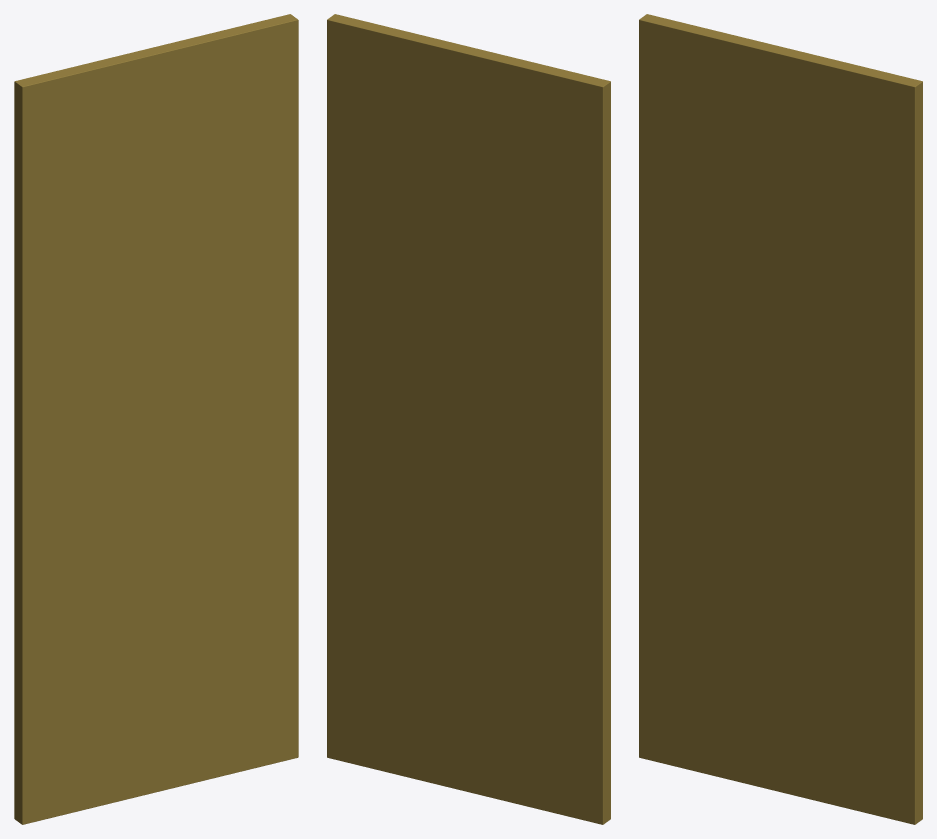
The model's file is original-1.obj.
3 renders of one model, left to right at view 1: azimuth 30°, elevation 25°; view 2: azimuth 150°, elevation 25°; view 3: azimuth 330°, elevation 25°, orthographic.
Parts seen in each view (by area): view 1: Group1/mesh1/mesh1-geometry#mesh1-geometry; view 2: Group1/mesh1/mesh1-geometry#mesh1-geometry; view 3: Group1/mesh1/mesh1-geometry#mesh1-geometry.
Boxes of the visible parts, x1,y1,x2,y2 form: Group1/mesh1/mesh1-geometry#mesh1-geometry: (14, 14, 298, 824); Group1/mesh1/mesh1-geometry#mesh1-geometry: (327, 14, 610, 824); Group1/mesh1/mesh1-geometry#mesh1-geometry: (639, 14, 922, 824).
Bounding box in the file's own units: 0.6911 × 1.76 × 0.0348.
